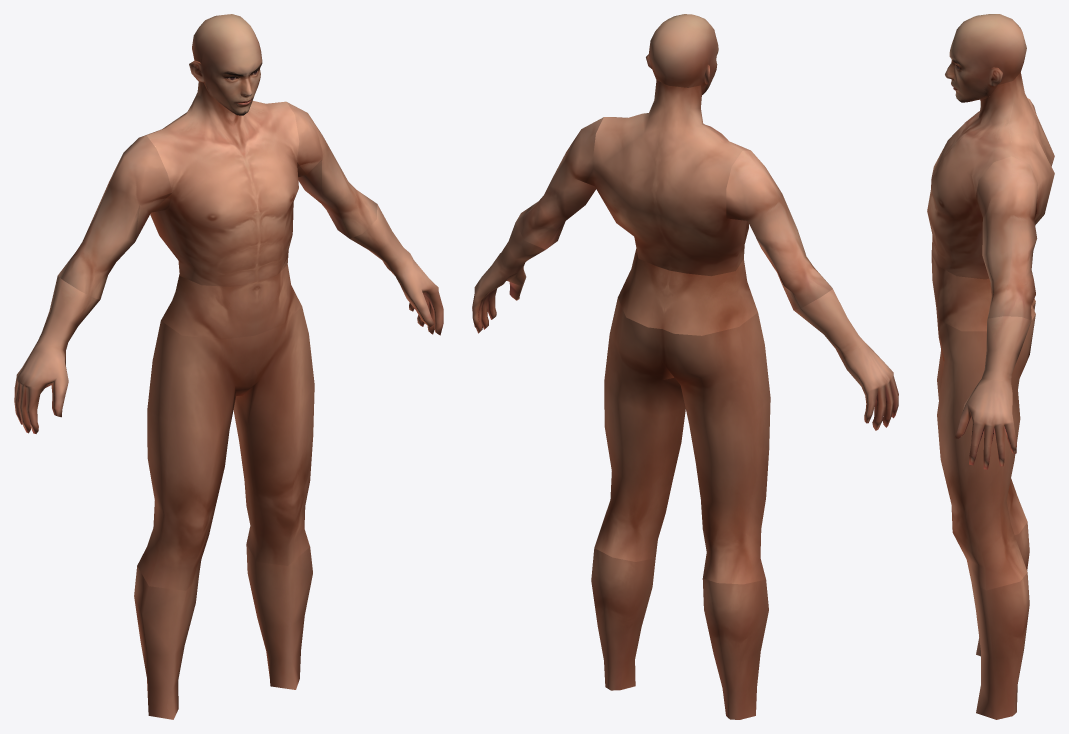
Rendered from male01.obj.
The picture shows the model from 3 angles, left to right: view 1: azimuth 30°, elevation 25°; view 2: azimuth 150°, elevation 25°; view 3: azimuth 270°, elevation 25°; orthographic projection. The views are drawn at different scales.
Visible parts, largest first — view 1: m_leg_01, m_body_01, m_boot_01, m_arm_01, m_skirt_01, m_hand_01, m_xiuzi_01, m_glove_01, m_hair_01, m_face_01; view 2: m_leg_01, m_body_01, m_boot_01, m_skirt_01, m_arm_01, m_hand_01, m_hair_01, m_xiuzi_01, m_glove_01; view 3: m_leg_01, m_body_01, m_boot_01, m_arm_01, m_hair_01, m_hand_01, m_skirt_01, m_xiuzi_01, m_glove_01, m_face_01.
Boxes of the visible parts, x1,y1,x2,y2 form: m_leg_01: [137, 306, 314, 590]; m_body_01: [140, 81, 299, 286]; m_boot_01: [134, 544, 312, 719]; m_arm_01: [58, 144, 377, 299]; m_skirt_01: [161, 264, 301, 339]; m_hand_01: [14, 253, 443, 433]; m_xiuzi_01: [108, 102, 327, 212]; m_glove_01: [38, 204, 409, 350]; m_hair_01: [192, 14, 260, 82]; m_face_01: [189, 51, 262, 115]; m_leg_01: [594, 298, 770, 584]; m_body_01: [593, 80, 750, 276]; m_boot_01: [591, 548, 768, 719]; m_skirt_01: [618, 248, 757, 335]; m_arm_01: [515, 152, 832, 309]; m_hand_01: [472, 260, 898, 430]; m_hair_01: [648, 14, 717, 87]; m_xiuzi_01: [566, 117, 782, 220]; m_glove_01: [496, 223, 865, 356]; m_leg_01: [936, 302, 1035, 590]; m_body_01: [927, 72, 1054, 279]; m_boot_01: [971, 522, 1029, 719]; m_arm_01: [982, 213, 1037, 320]; m_hair_01: [952, 14, 1026, 85]; m_hand_01: [954, 378, 1016, 469]; m_skirt_01: [931, 256, 1035, 331]; m_xiuzi_01: [976, 100, 1037, 220]; m_glove_01: [982, 316, 1031, 382]; m_face_01: [945, 40, 1002, 102].
Bounding box in the file's own units: 84.3 × 132 × 22.85.
Materials: 10 (10 with a texture image).
